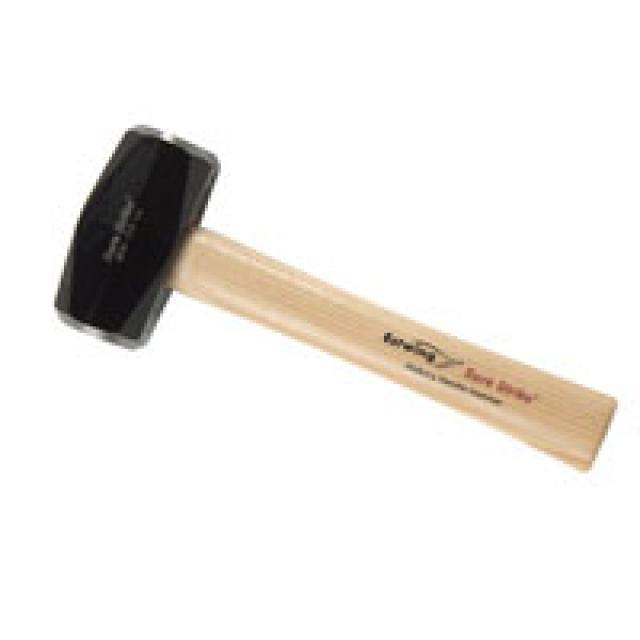hammer: (34, 74, 640, 545)
